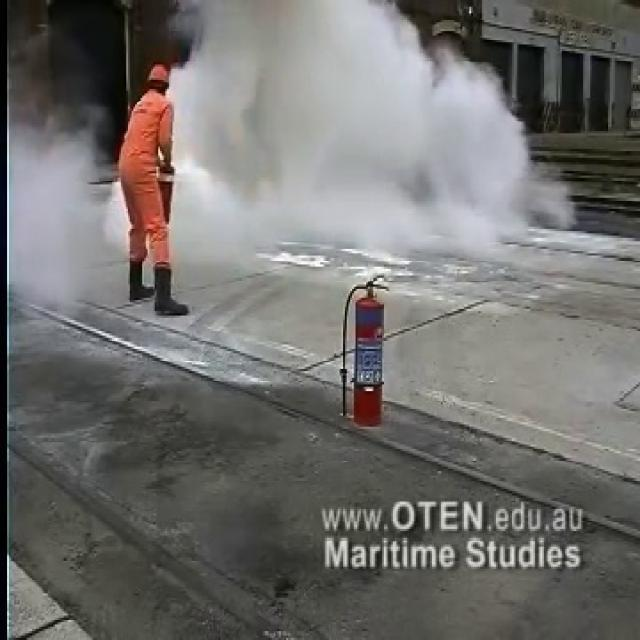Smoke: (142, 0, 562, 262)
